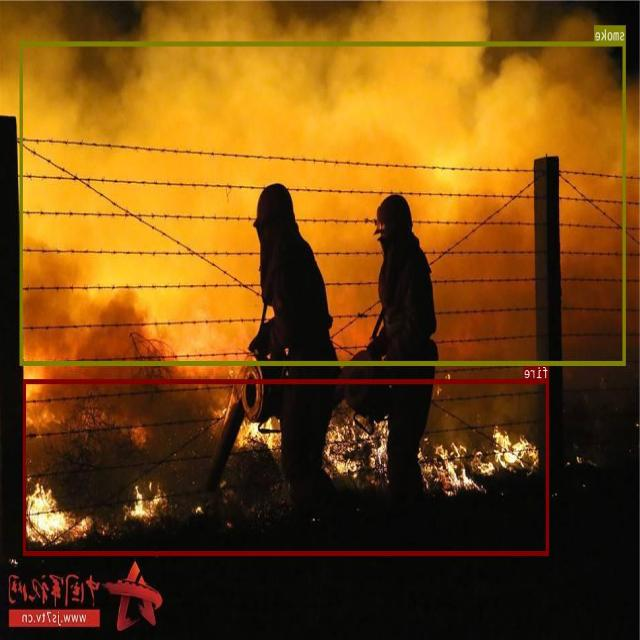fire: (24, 378, 549, 555)
smoke: (21, 41, 626, 364)
